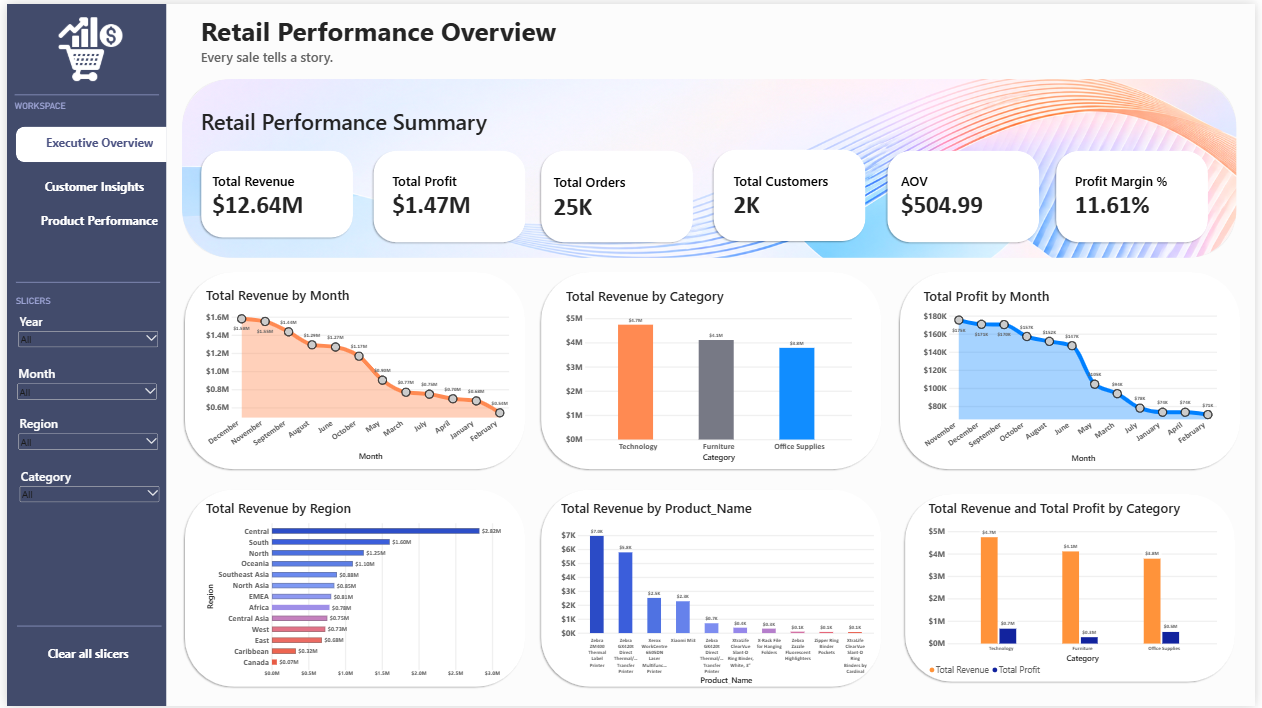

The page's visual inventory and layout, read from the dashboard file:
{"tool":"powerbi","page":{"name":"Page 3","canvas":[3840,2160],"ordinal":2},"visuals":[{"type":"shape","box":[0,0,490,2160],"z":0},{"type":"shape","box":[540,815,1580,625],"z":0,"group":"g3"},{"type":"textbox","title":"Retail Performance Overview","box":[595,25,1110,205],"z":1000},{"type":"shape","box":[2165,815,1620,625],"z":1000,"group":"g3"},{"type":"group","id":"g1","title":"Group 1","box":[24,298,485,502.5],"z":2000},{"type":"shape","box":[543.3,1493.3,1580,625],"z":2000,"group":"g3"},{"type":"shape","box":[25,755,445,205],"z":3000},{"type":"shape","box":[2186.7,1496.7,1580,625],"z":3000,"group":"g3"},{"type":"textbox","title":"SLICERS","box":[25,897.5,270,38],"z":4000},{"type":"shape","box":[22.5,175,445,205],"z":5000},{"type":"slicer","fields":{"Values":["DimDate.Year"]},"box":[30,951.4,438.6,128.6],"z":5001},{"type":"slicer","fields":{"Values":["DimDate.Month"]},"box":[27.5,1110,438.6,128.6],"z":5002},{"type":"slicer","fields":{"Values":["FactSales.Region"]},"box":[32.5,1265,438.6,128.6],"z":5003},{"type":"slicer","fields":{"Values":["DimProduct_Fixed.Category"]},"box":[35,1427.5,438.6,128.6],"z":5004},{"type":"shape","box":[30,1810,445,205],"z":5005},{"type":"actionButton","box":[35,1965,430,50],"z":5006},{"type":"image","box":[540,230,3245,550],"z":5007},{"type":"group","id":"g2","title":"Group 1","box":[590,440,3135,306.7],"z":5008},{"type":"group","id":"g3","title":"Group 2","box":[540,815,3245,1306.7],"z":5009},{"type":"clusteredBarChart","title":"Top 10 Products by Revenue","fields":{"Category":["DimProduct_Fixed.Product_Name"],"Y":["FactSales.Total Product Revenue"]},"box":[596,836,1474,586],"z":5010},{"type":"clusteredBarChart","title":"Bottom 10 Products by Revenue","fields":{"Category":["DimProduct_Fixed.Product_Name"],"Y":["FactSales.Total Product Revenue"]},"box":[2240,833.3,1474,586],"z":5011},{"type":"lineStackedColumnComboChart","fields":{"Category":["DimProduct_Fixed.Category"],"Y":["FactSales.Total Product Revenue"],"Y2":["FactSales.Total Product Profit"]},"box":[2240,1543.3,1486.7,576.7],"z":5012},{"type":"tableEx","title":"Product Performance Ranking","fields":{"Values":["FactSales.Product Rank","DimProduct_Fixed.Product_Name","FactSales.Total Product Revenue","FactSales.Total Product Orders","FactSales.Total Product Profit","FactSales.Product Profit Margin %"]},"box":[595,1527.5,1475,557.5],"z":5013},{"type":"textbox","title":"Products Performance Summary","box":[595,315,1525,130],"z":5014},{"type":"image","box":[85,25,345,225],"z":5015},{"type":"shape","box":[590,445,485,285],"z":17000,"group":"g2"},{"type":"shape","box":[1120,445,485,300],"z":18000,"group":"g2"},{"type":"shape","box":[1635,445,485,300],"z":19000,"group":"g2"},{"type":"shape","box":[2165,440,485,300],"z":20000,"group":"g2"},{"type":"shape","box":[2700,445,485,300],"z":21000,"group":"g2"},{"type":"shape","box":[3220,445,485,300],"z":22000,"group":"g2"},{"type":"cardVisual","fields":{"Data":["FactSales.Product Revenue"]},"box":[615,480,460,230],"z":23000,"group":"g2"},{"type":"cardVisual","fields":{"Data":["FactSales.Product Profit"]},"box":[1170,480,390,230],"z":24000,"group":"g2"},{"type":"cardVisual","fields":{"Data":["FactSales.Total Products"]},"box":[1667.5,490,295,230],"z":25000,"group":"g2"},{"type":"cardVisual","fields":{"Data":["FactSales.Products Sold"]},"box":[2220,466.7,396.7,280],"z":26000,"group":"g2"},{"type":"cardVisual","fields":{"Data":["FactSales.Product Orders"]},"box":[2740,480,430,230],"z":27000,"group":"g2"},{"type":"cardVisual","fields":{"Data":["FactSales.Product Profit Margin %"]},"box":[3235,475,490,245],"z":28000,"group":"g2"},{"type":"shape","box":[29,633,462.5,110],"z":29000,"group":"g1"},{"type":"actionButton","box":[100,380,370,90],"z":30000,"group":"g1"},{"type":"actionButton","box":[45,445,445,230],"z":31000,"group":"g1"},{"type":"actionButton","box":[64,570.5,445,230],"z":32000,"group":"g1"},{"type":"textbox","title":"WORKSPACE","box":[24,298,270,38],"z":33000,"group":"g1"}]}

Visuals, with their boxes on the page's 3840x2160 design canvas (x1, y1, x2, y2). These are canvas units, not pixel positions in the 1262x708 screenshot, which may show the page scaled, cropped or inside an application window:
shape: BBox(0, 0, 490, 2160)
shape: BBox(540, 815, 2120, 1440)
"Retail Performance Overview" textbox: BBox(595, 25, 1705, 230)
shape: BBox(2165, 815, 3785, 1440)
"Group 1" group: BBox(24, 298, 509, 800)
shape: BBox(543, 1493, 2123, 2118)
shape: BBox(25, 755, 470, 960)
shape: BBox(2187, 1497, 3767, 2122)
"SLICERS" textbox: BBox(25, 898, 295, 936)
shape: BBox(22, 175, 468, 380)
slicer - DimDate.Year: BBox(30, 951, 469, 1080)
slicer - DimDate.Month: BBox(28, 1110, 466, 1239)
slicer - FactSales.Region: BBox(32, 1265, 471, 1394)
slicer - DimProduct_Fixed.Category: BBox(35, 1428, 474, 1556)
shape: BBox(30, 1810, 475, 2015)
actionButton: BBox(35, 1965, 465, 2015)
image: BBox(540, 230, 3785, 780)
"Group 1" group: BBox(590, 440, 3725, 747)
"Group 2" group: BBox(540, 815, 3785, 2122)
"Top 10 Products by Revenue" clusteredBarChart: BBox(596, 836, 2070, 1422)
"Bottom 10 Products by Revenue" clusteredBarChart: BBox(2240, 833, 3714, 1419)
lineStackedColumnComboChart - DimProduct_Fixed.Category x FactSales.Total Product Revenue: BBox(2240, 1543, 3727, 2120)
"Product Performance Ranking" tableEx: BBox(595, 1528, 2070, 2085)
"Products Performance Summary" textbox: BBox(595, 315, 2120, 445)
image: BBox(85, 25, 430, 250)
shape: BBox(590, 445, 1075, 730)
shape: BBox(1120, 445, 1605, 745)
shape: BBox(1635, 445, 2120, 745)
shape: BBox(2165, 440, 2650, 740)
shape: BBox(2700, 445, 3185, 745)
shape: BBox(3220, 445, 3705, 745)
cardVisual - FactSales.Product Revenue: BBox(615, 480, 1075, 710)
cardVisual - FactSales.Product Profit: BBox(1170, 480, 1560, 710)
cardVisual - FactSales.Total Products: BBox(1668, 490, 1962, 720)
cardVisual - FactSales.Products Sold: BBox(2220, 467, 2617, 747)
cardVisual - FactSales.Product Orders: BBox(2740, 480, 3170, 710)
cardVisual - FactSales.Product Profit Margin %: BBox(3235, 475, 3725, 720)
shape: BBox(29, 633, 492, 743)
actionButton: BBox(100, 380, 470, 470)
actionButton: BBox(45, 445, 490, 675)
actionButton: BBox(64, 570, 509, 800)
"WORKSPACE" textbox: BBox(24, 298, 294, 336)
